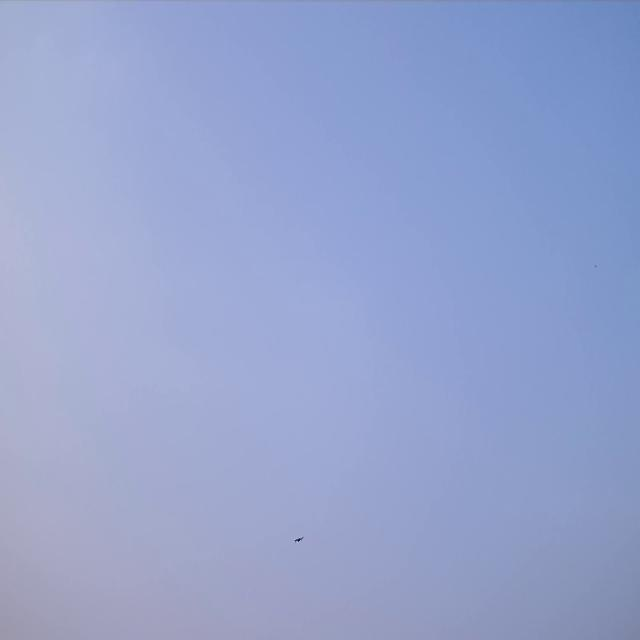UAV: (292, 535, 305, 544)
